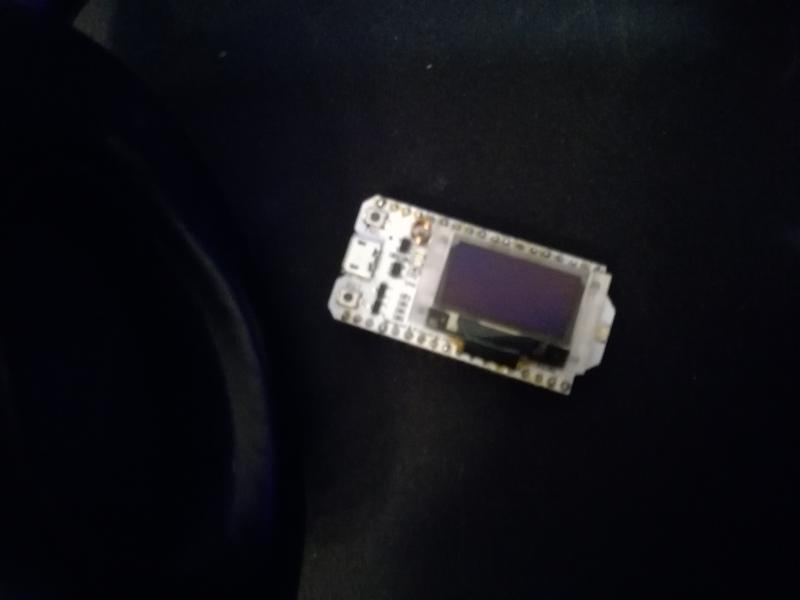Heltec_ESP32_Lora: (319, 192, 622, 401)
